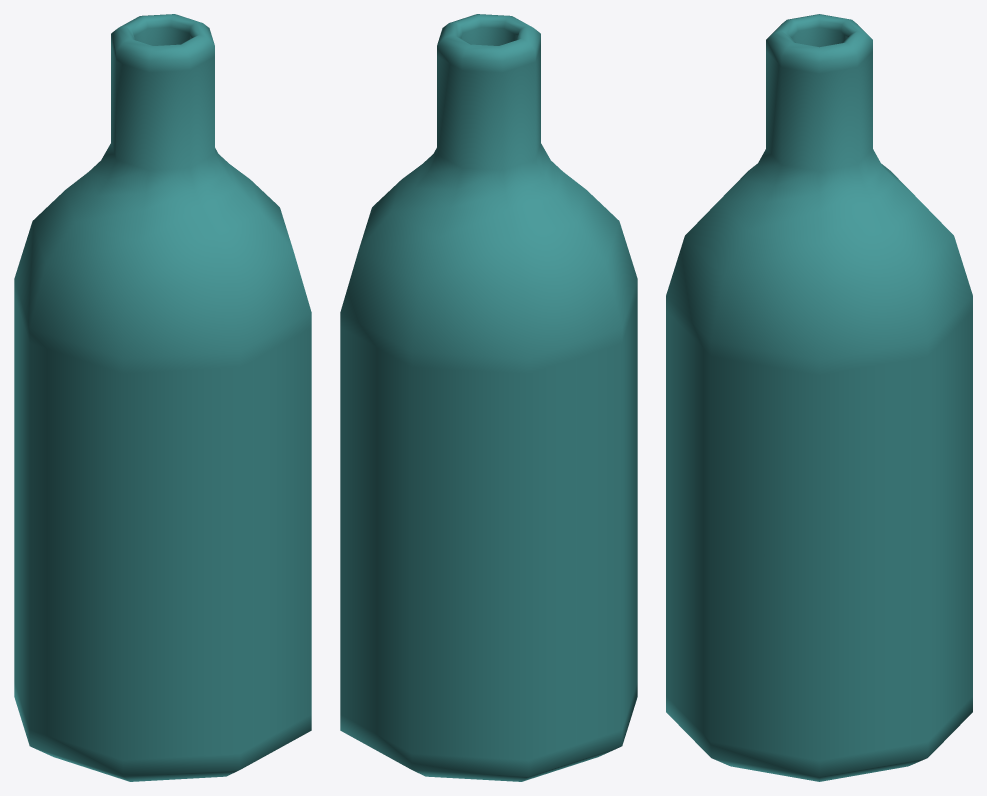
The model's file is bottle-2.obj.
3 views of the same model, side by side, from view 1: azimuth 30°, elevation 25°; view 2: azimuth 150°, elevation 25°; view 3: azimuth 270°, elevation 25° (orthographic).
Parts seen in each view (by area): view 1: Bottle_Cylinder; view 2: Bottle_Cylinder; view 3: Bottle_Cylinder.
Part boxes in pixels (x1,y1,x2,y2): Bottle_Cylinder: [14, 14, 311, 781]; Bottle_Cylinder: [340, 14, 637, 781]; Bottle_Cylinder: [666, 14, 972, 781].
Bounding box in the file's own units: 0.136 × 0.3412 × 0.136.
